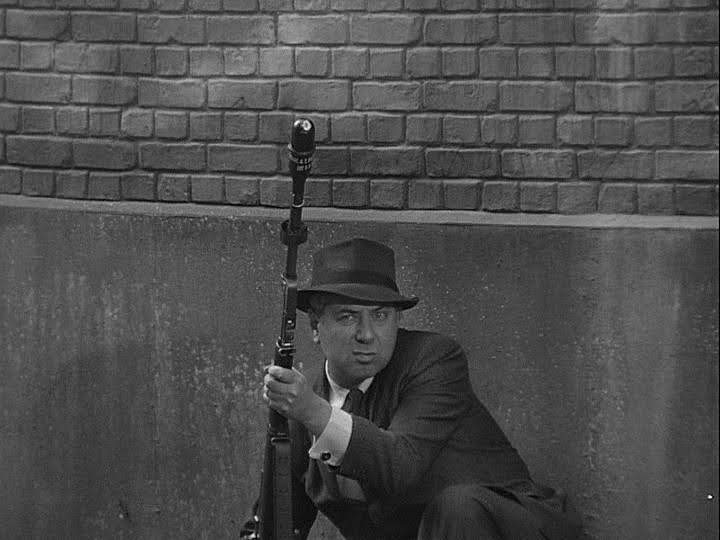gun: (270, 109, 325, 513)
